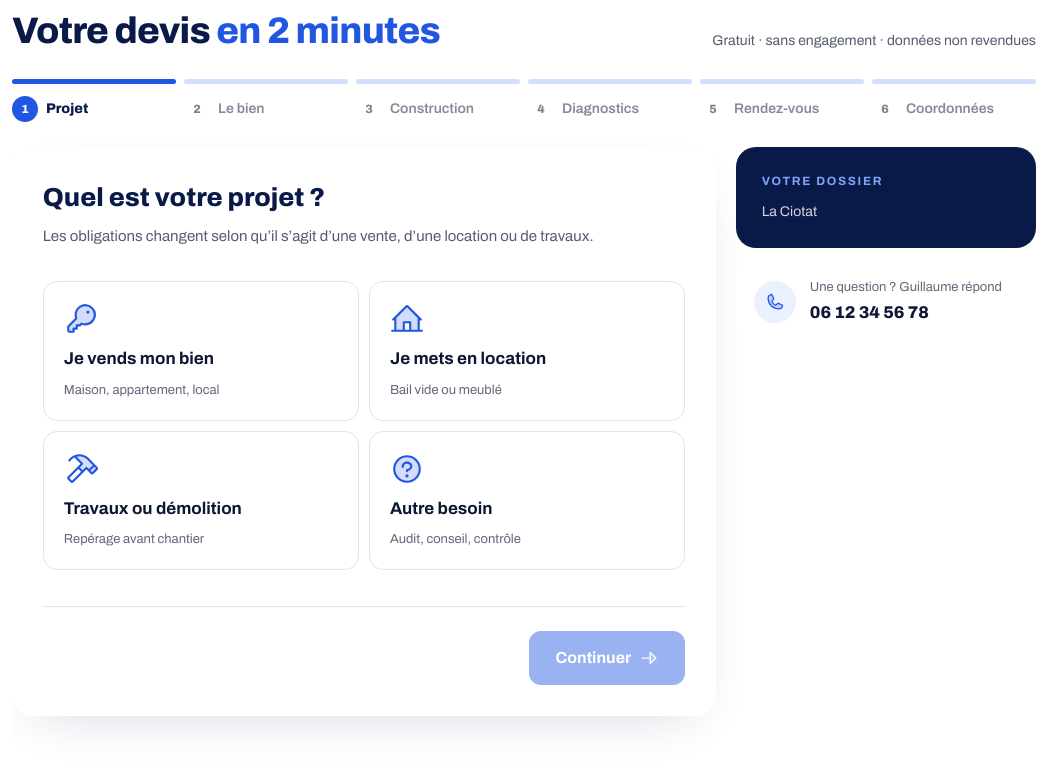
Test case: DevisWizard › pré-remplit la commune passée dans l’URL
Click the button "Je vends mon bien Maison, appartement, local": {"x": 201, "y": 351} [43, 281, 359, 421]
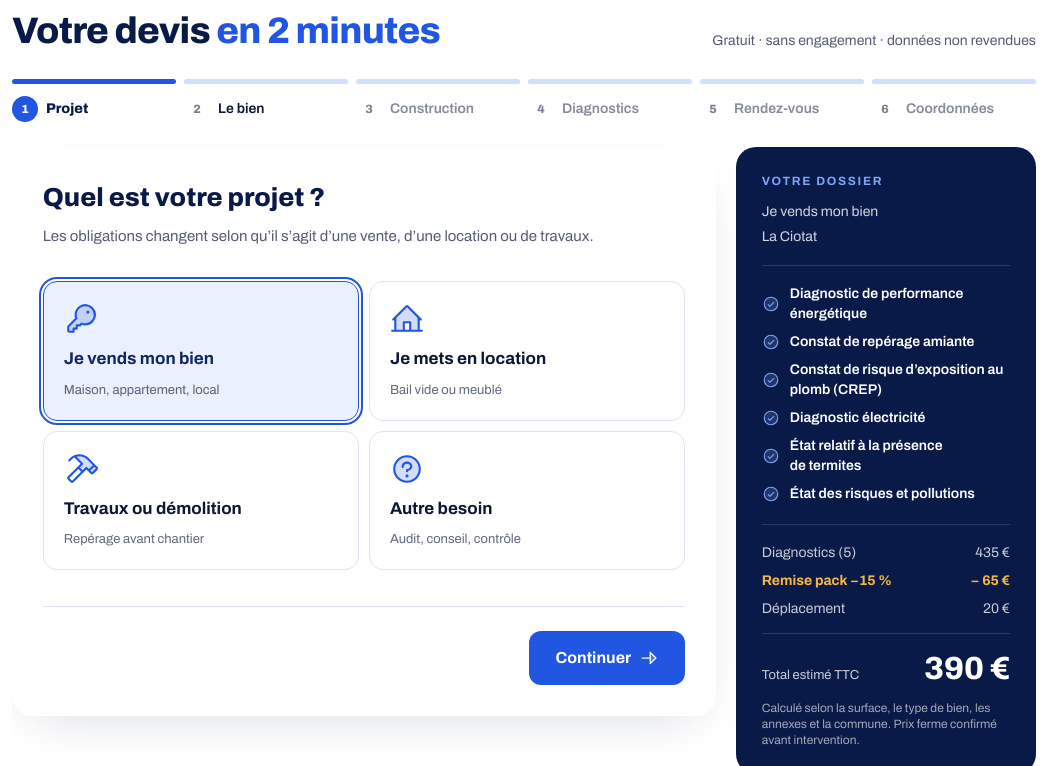
Click the button "Continuer": {"x": 607, "y": 658} [530, 631, 685, 685]
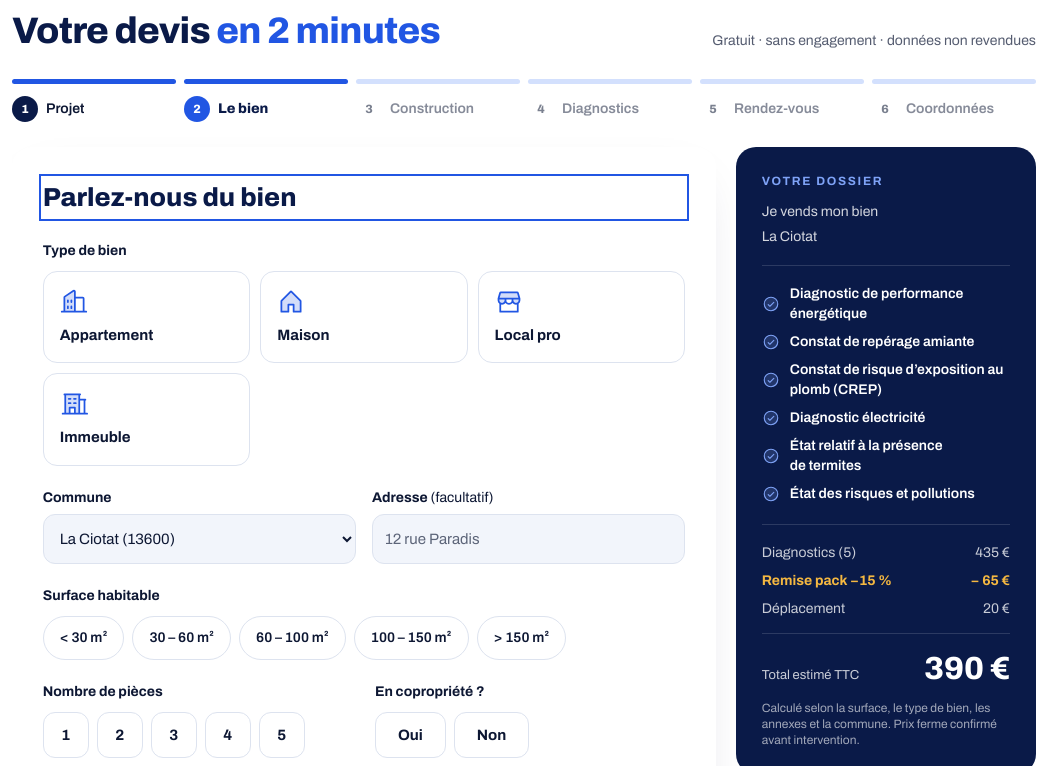
Expected: the dropdown labelled "Commune" shows "La Ciotat (13600)", [43, 514, 356, 564]
